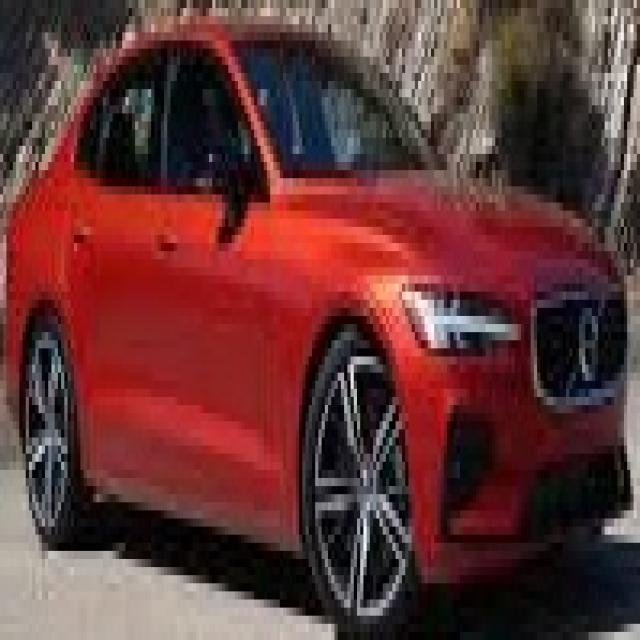red: (13, 43, 640, 640)
